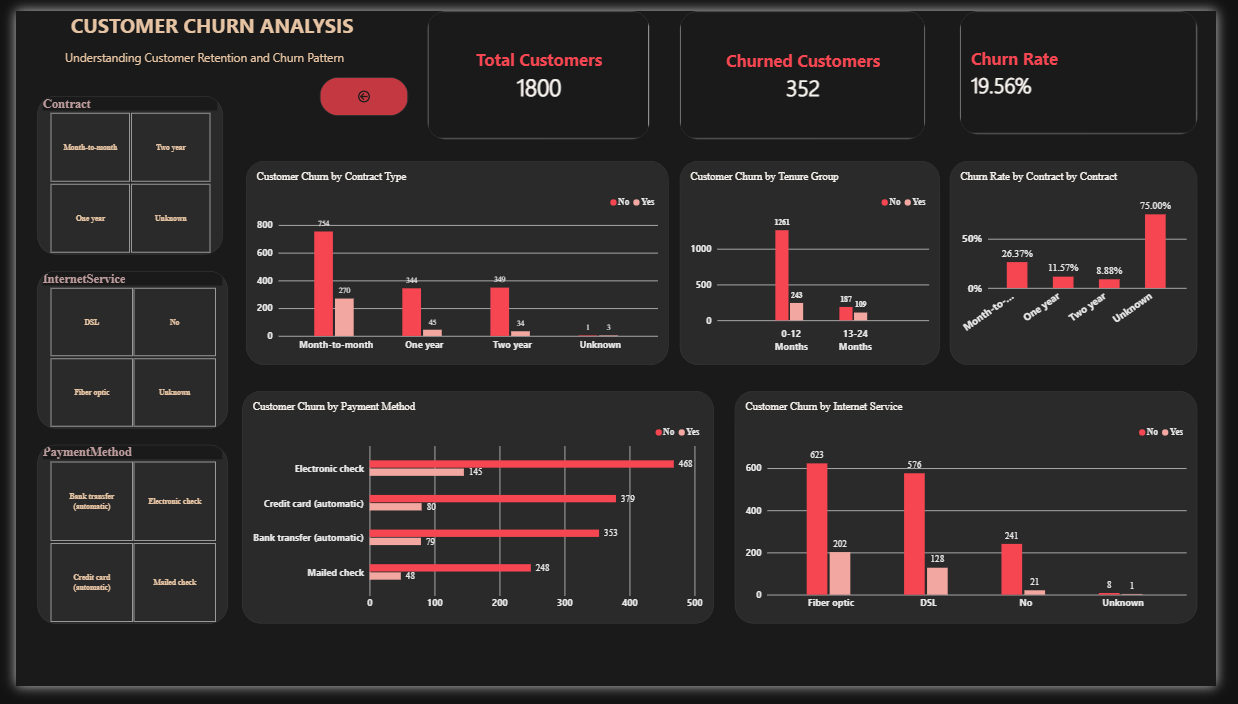

This screenshot's page, from the dashboard's own definition file:
{"tool":"powerbi","page":{"name":"Dashboard","canvas":[1920,1080],"ordinal":0},"visuals":[{"type":"cardVisual","fields":{"Data":["Customers_Raw.Total Customers"]},"box":[658.7,0,356.1,205.8],"z":0},{"type":"cardVisual","fields":{"Data":["Customers_Raw.Churned Customers"]},"box":[1062.1,0,393.1,205.8],"z":1000},{"type":"cardVisual","fields":{"Data":["Customers_Raw.Churn Rate"]},"box":[1510.8,0,380.8,197.6],"z":2000},{"type":"clusteredColumnChart","title":"Customer Churn by Contract Type","fields":{"Category":["Customers_Raw.Contract"],"Series":["Customers_Raw.Churn"],"Y":["Customers_Raw.Total Customers"]},"box":[368,240,676,326],"z":3000},{"type":"clusteredColumnChart","title":"Customer Churn by Tenure Group","fields":{"Category":["Customers_Raw.Tenure Group"],"Series":["Customers_Raw.Churn"],"Y":["Customers_Raw.Total Customers"]},"box":[1062,240,416,326],"z":4000},{"type":"clusteredBarChart","title":"Customer Churn by Payment Method","fields":{"Category":["Customers_Raw.PaymentMethod"],"Series":["Customers_Raw.Churn"],"Y":["Customers_Raw.Total Customers"]},"box":[362,608,754,372],"z":5000},{"type":"clusteredColumnChart","title":"Customer Churn by Internet Service","fields":{"Category":["Customers_Raw.InternetService"],"Series":["Customers_Raw.Churn"],"Y":["Customers_Raw.Total Customers"]},"box":[1150,608,740,372],"z":6000},{"type":"slicer","fields":{"Values":["Customers_Raw.Contract"]},"box":[33.3,136.7,296.7,253.3],"z":7000},{"type":"slicer","fields":{"Values":["Customers_Raw.InternetService"]},"box":[33.3,415,305,251.7],"z":8000},{"type":"slicer","fields":{"Values":["Customers_Raw.PaymentMethod"]},"box":[33.3,693.3,305,286.7],"z":9000},{"type":"textbox","box":[0,0,627.8,61.7],"z":10000},{"type":"textbox","box":[0,61.7,603.1,41.2],"z":11000},{"type":"actionButton","box":[486.7,106.7,141.7,61.7],"z":12000},{"type":"clusteredColumnChart","fields":{"Category":["Customers_Raw.Contract"],"Y":["Customers_Raw.Churn Rate by Contract"]},"box":[1494,240,396,326],"z":12001}]}

Visuals, with their boxes in screenshot pixels (x1, y1, x2, y2), scaled from the page's 1920x1080 canvas onto the 1238x704 screenshot:
cardVisual - Customers_Raw.Total Customers: x1=425 y1=0 x2=654 y2=134
cardVisual - Customers_Raw.Churned Customers: x1=685 y1=0 x2=938 y2=134
cardVisual - Customers_Raw.Churn Rate: x1=974 y1=0 x2=1220 y2=129
"Customer Churn by Contract Type" clusteredColumnChart: x1=237 y1=156 x2=673 y2=369
"Customer Churn by Tenure Group" clusteredColumnChart: x1=685 y1=156 x2=953 y2=369
"Customer Churn by Payment Method" clusteredBarChart: x1=233 y1=396 x2=720 y2=639
"Customer Churn by Internet Service" clusteredColumnChart: x1=742 y1=396 x2=1219 y2=639
slicer - Customers_Raw.Contract: x1=21 y1=89 x2=213 y2=254
slicer - Customers_Raw.InternetService: x1=21 y1=271 x2=218 y2=435
slicer - Customers_Raw.PaymentMethod: x1=21 y1=452 x2=218 y2=639
textbox: x1=0 y1=0 x2=405 y2=40
textbox: x1=0 y1=40 x2=389 y2=67
actionButton: x1=314 y1=70 x2=405 y2=110
clusteredColumnChart - Customers_Raw.Contract x Customers_Raw.Churn Rate by Contract: x1=963 y1=156 x2=1219 y2=369
